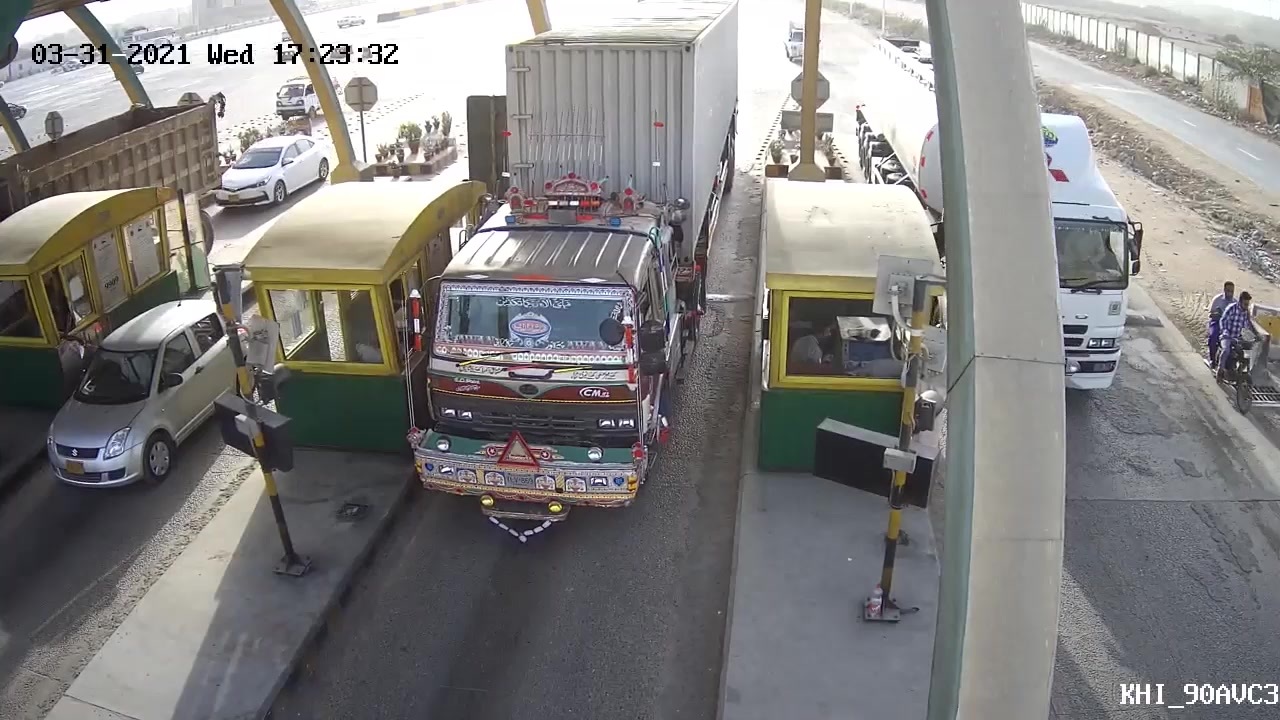F6: (407, 38, 713, 568)
